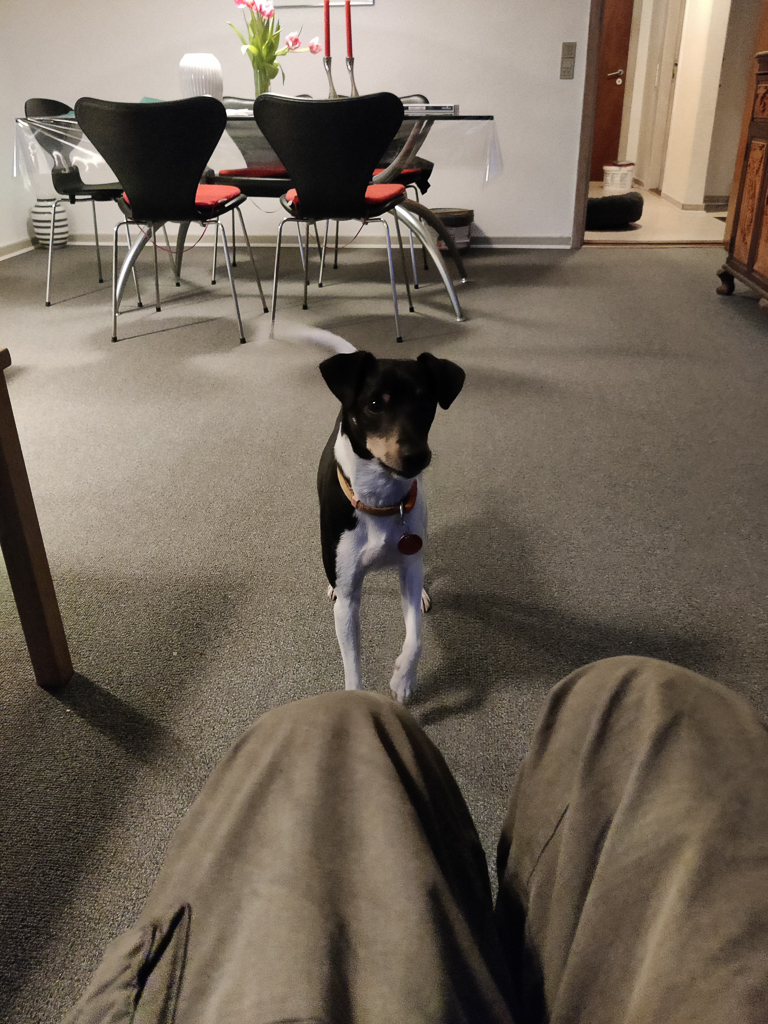Dog: (242, 296, 481, 744)
Humanoid: (40, 649, 768, 1024)
